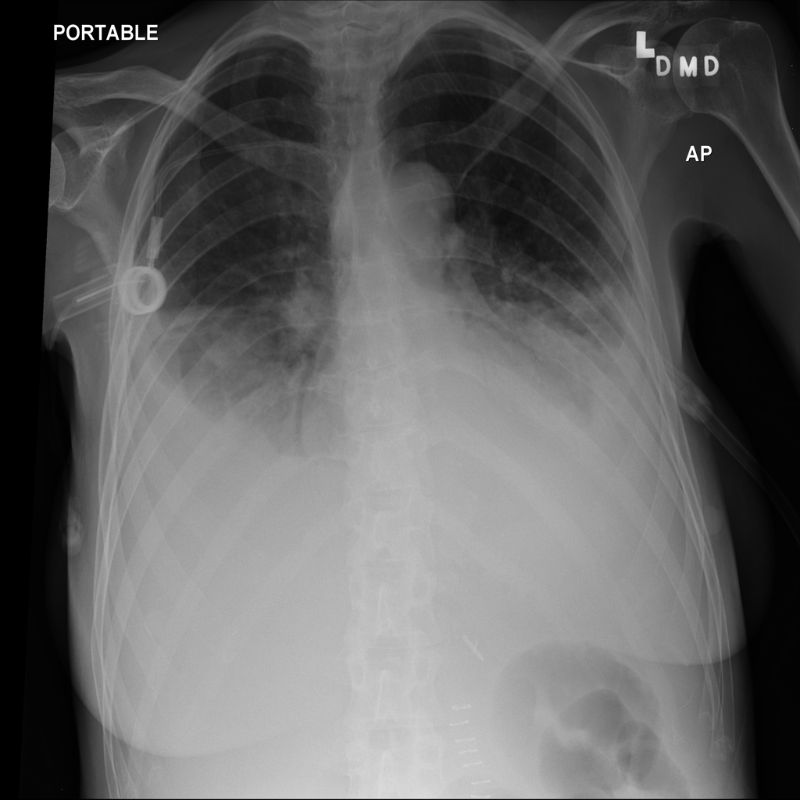PLEURAL EFFUSION: (108, 319, 248, 512), (529, 277, 663, 469)
